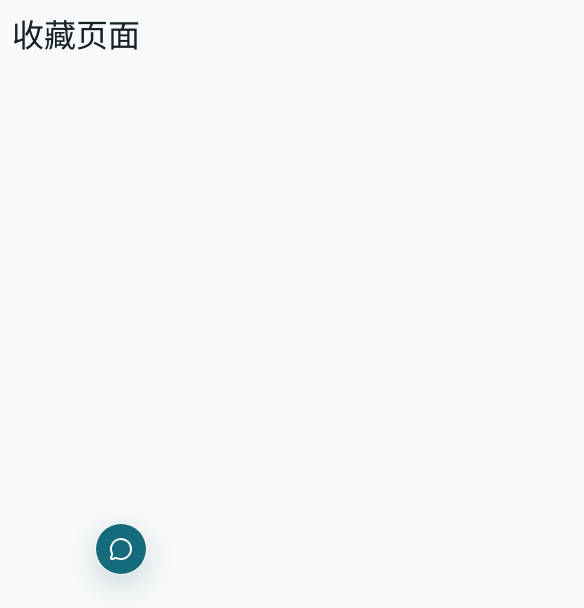
Scenario: business chat execution › opens the requested itinerary day map from another page without route generation
The image size is (584, 608).
Type keys "{Alt>}/{/Alt}"
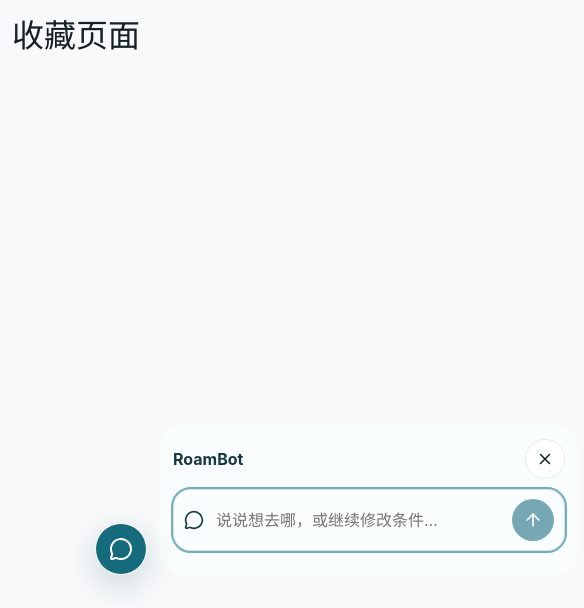
In the text box named "继续补充条件": point(358, 520) [216, 498, 500, 542], type "看看第二天的行程地图"
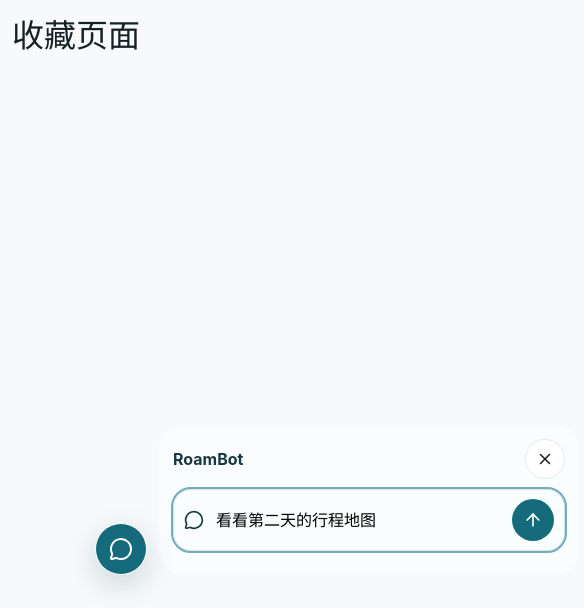
Click the button named "发送消息": point(533, 520) [512, 499, 554, 541]
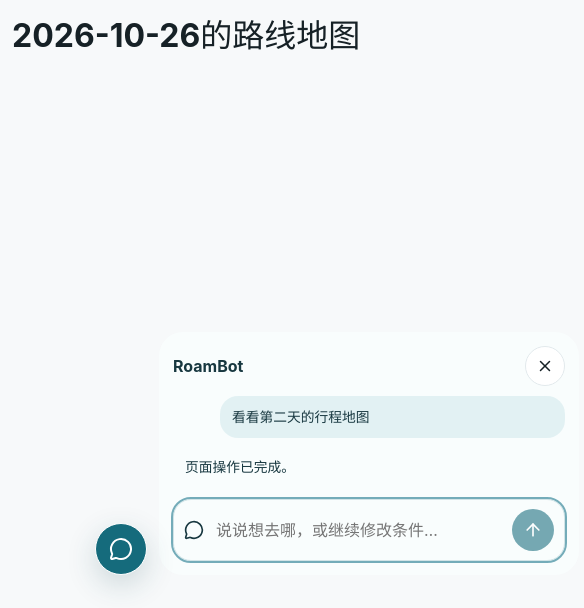
expect the heading "2026-10-26的路线地图" is shown: met, box [12, 16, 360, 55]
